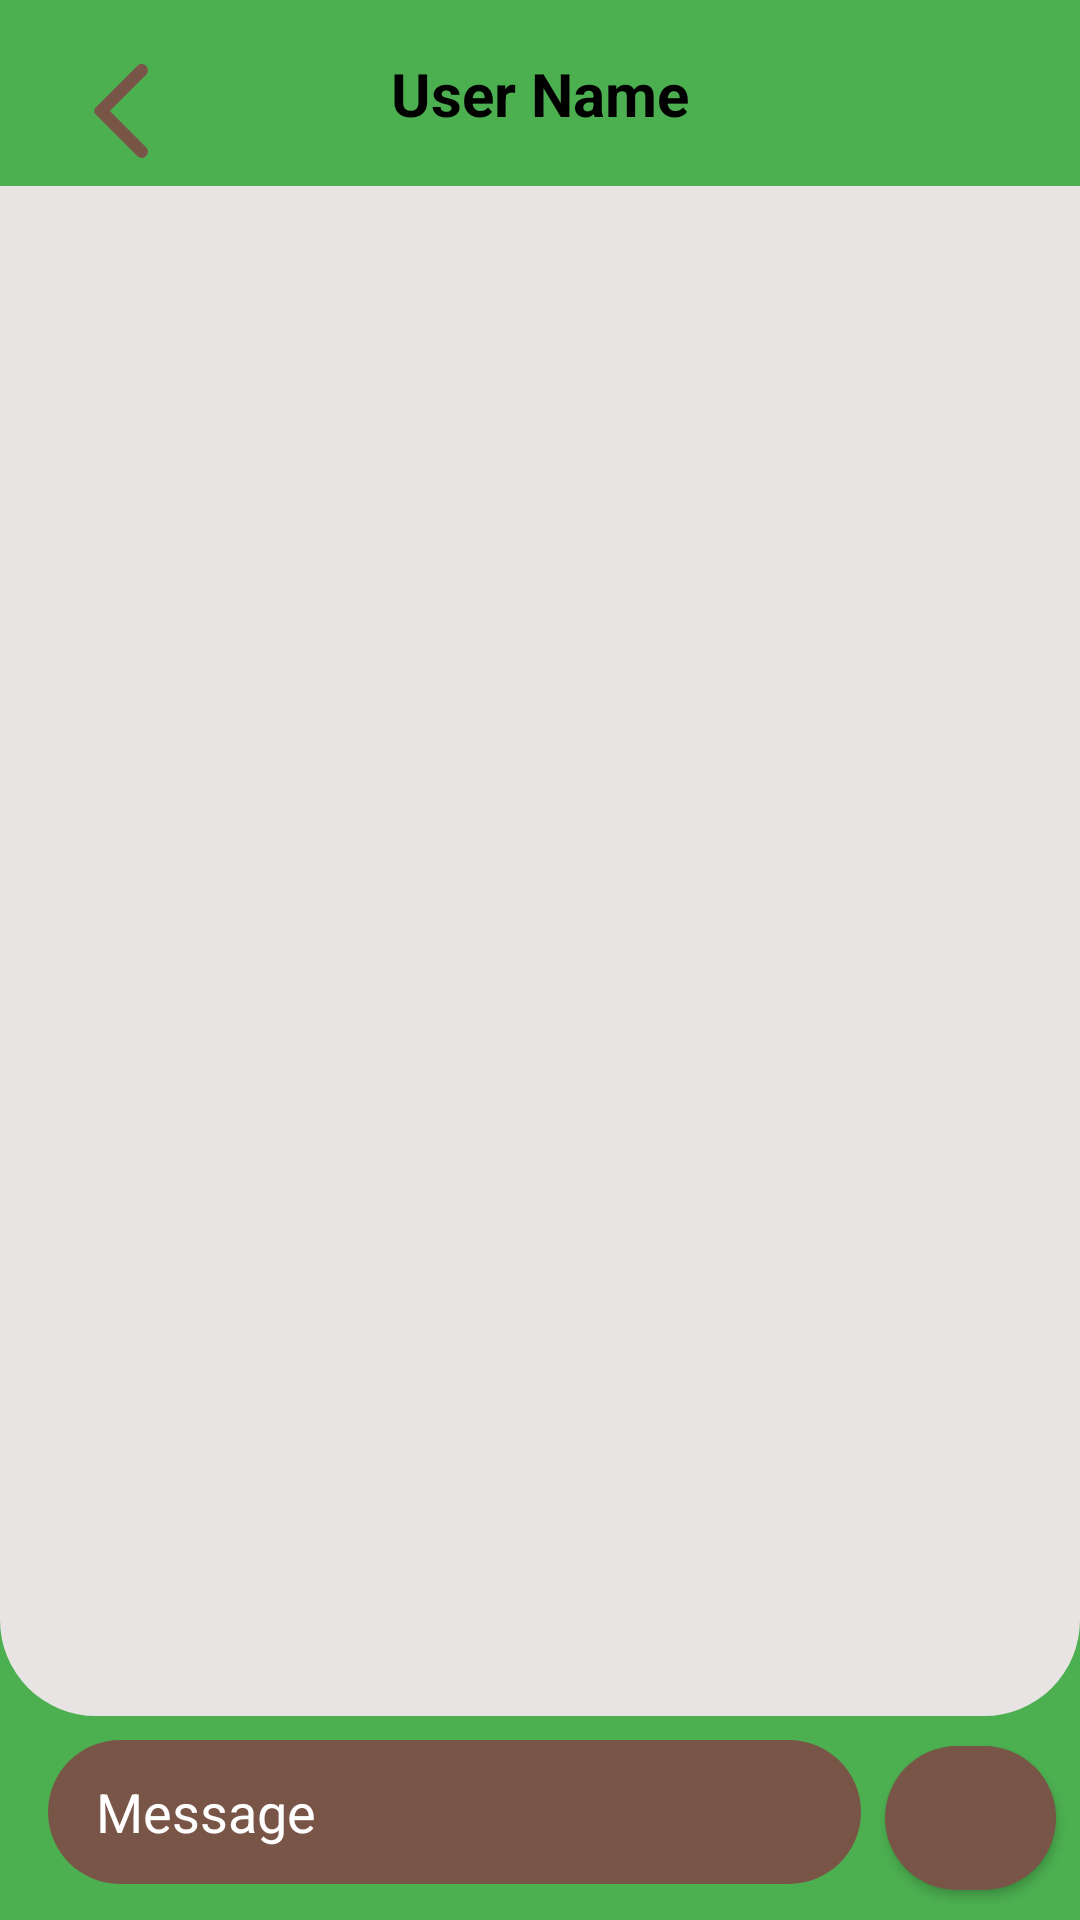

Where icons sit on this 1080x1920 app screen, as BBox(x1, y1, x2, y2):
back: BBox(94, 64, 148, 158)
